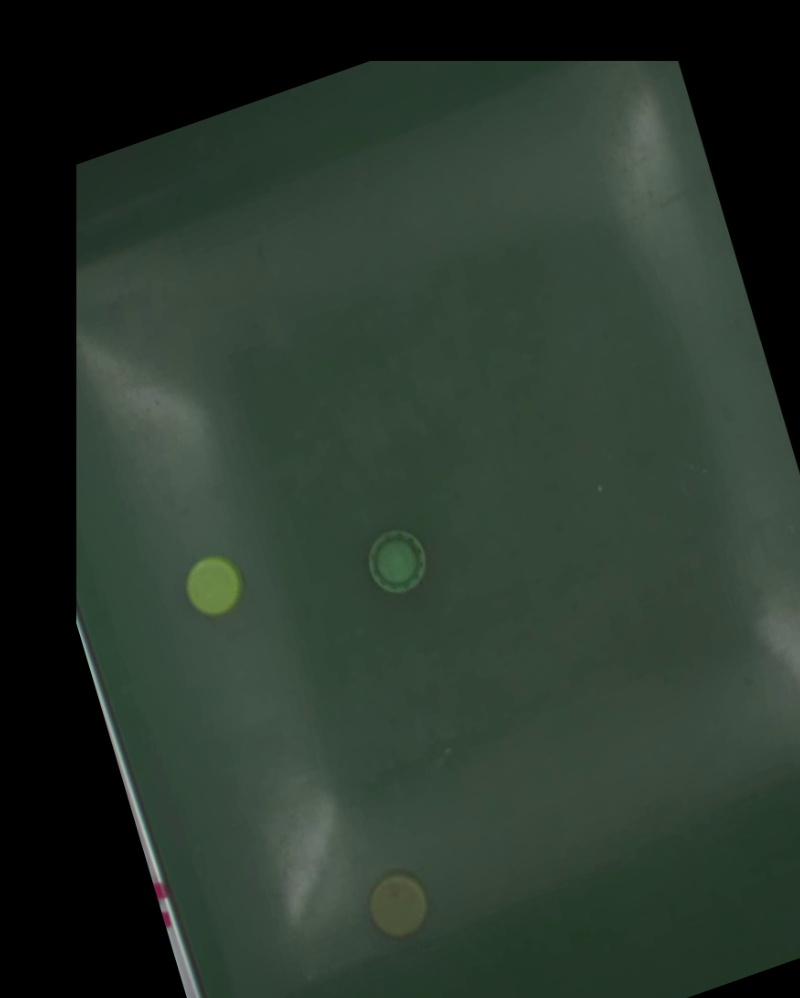Others: (361, 524, 435, 602), (175, 547, 249, 624), (362, 867, 435, 945)
